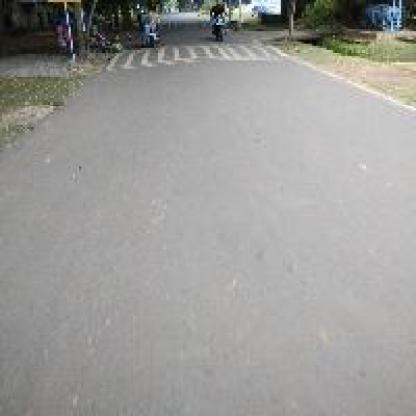Speed Bump: (102, 41, 293, 75)
